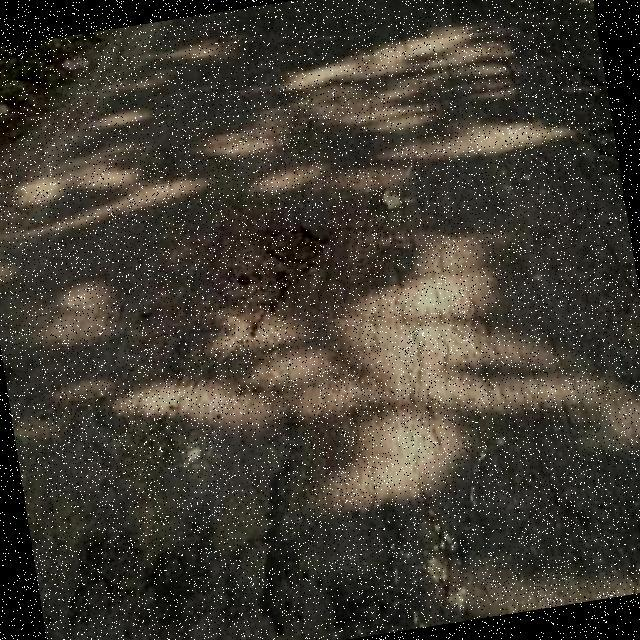Pothole: (232, 229, 326, 337), (555, 67, 607, 93)
